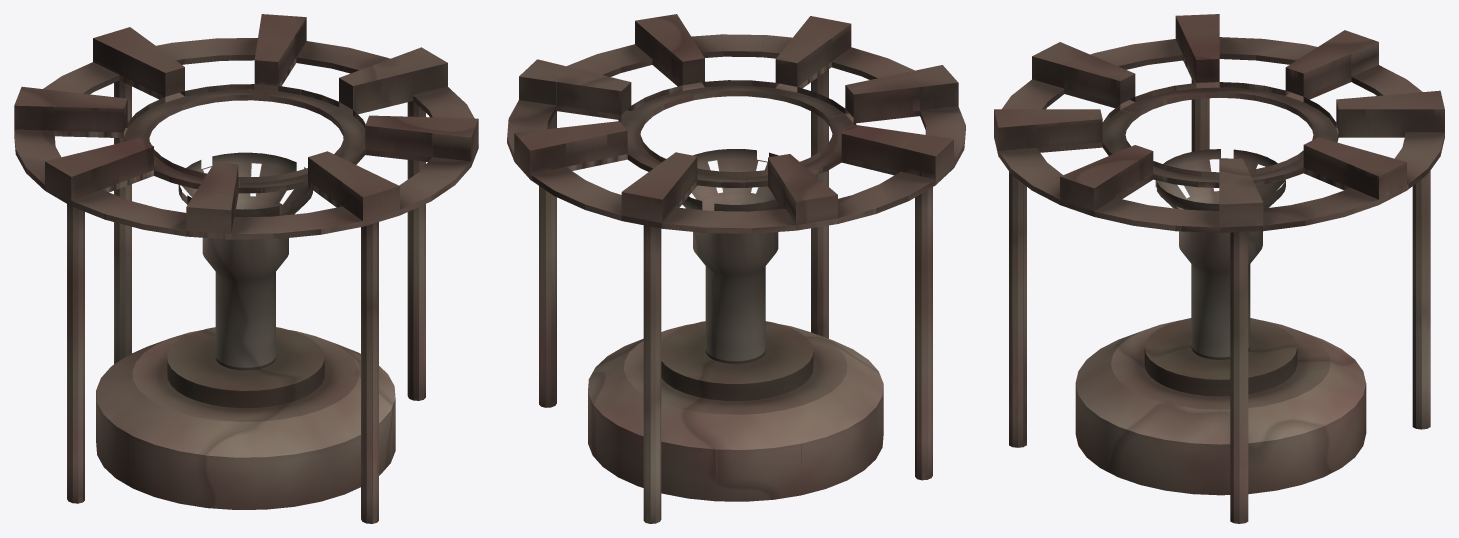
The model's file is gasstove(textured).fbx.
The picture shows the model from 3 angles, left to right: view 1: azimuth 30°, elevation 25°; view 2: azimuth 150°, elevation 25°; view 3: azimuth 270°, elevation 25°; orthographic projection. The views are drawn at different scales.
Visible parts, largest first — view 1: Cylinder.006, Cylinder.005; view 2: Cylinder.006, Cylinder.005; view 3: Cylinder.006, Cylinder.005.
Part boxes in pixels (box(x1,y1,x2,y2)): Cylinder.006: box(14, 14, 478, 523); Cylinder.005: box(96, 152, 395, 509); Cylinder.006: box(507, 14, 965, 523); Cylinder.005: box(588, 149, 883, 501); Cylinder.006: box(994, 14, 1444, 523); Cylinder.005: box(1075, 149, 1366, 495).
Bounding box in the file's own units: 365 × 291 × 365.
Materials: 1 (1 with a texture image).
